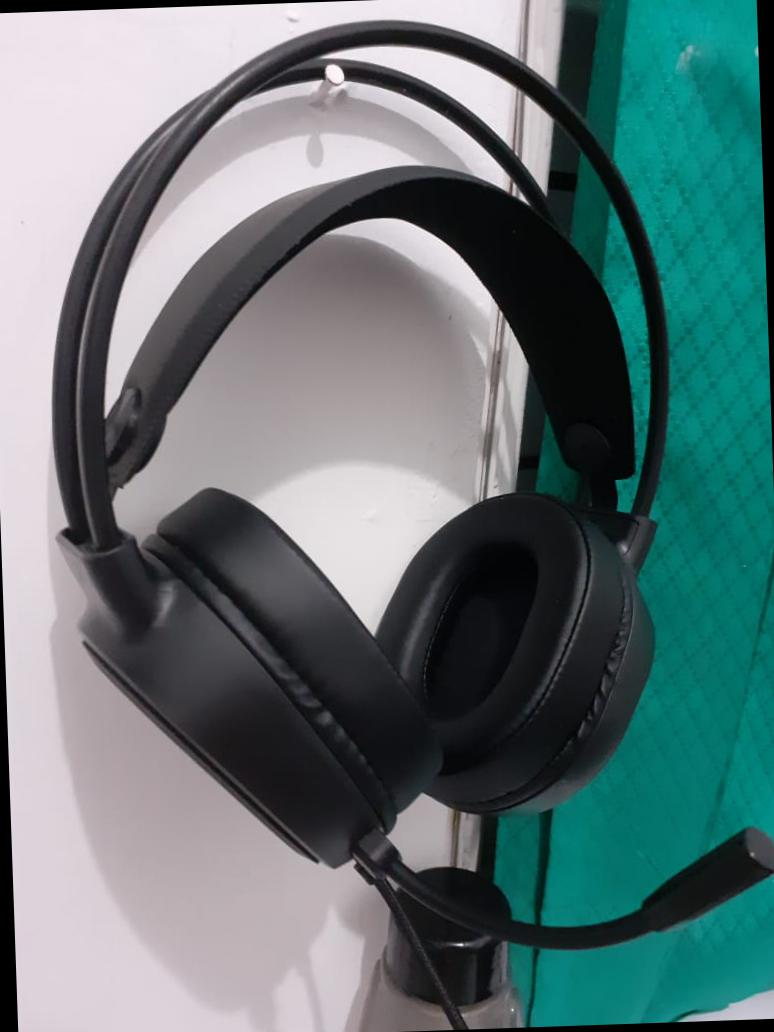Headset: (21, 0, 773, 977)
